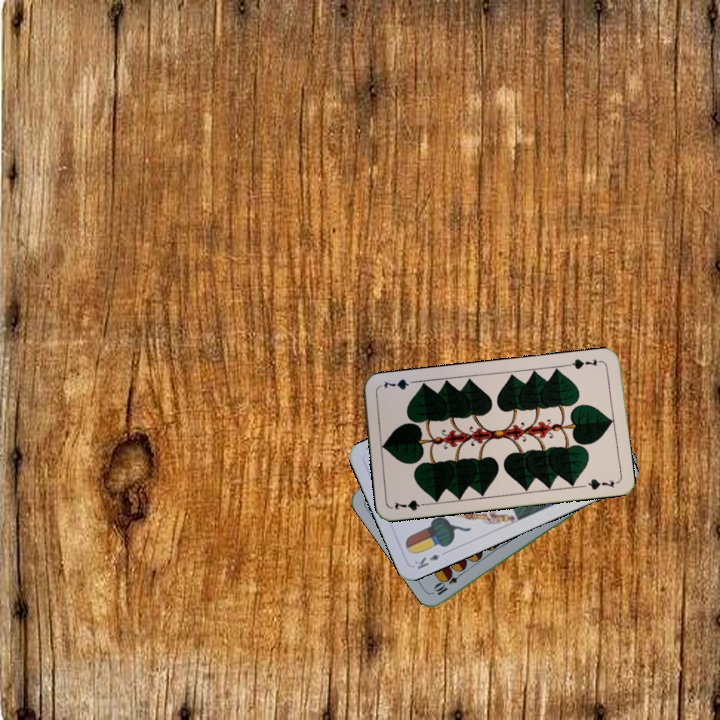E10: (430, 566, 467, 598)
EK: (410, 550, 442, 572)
G7: (390, 496, 431, 513), (564, 355, 605, 371)
